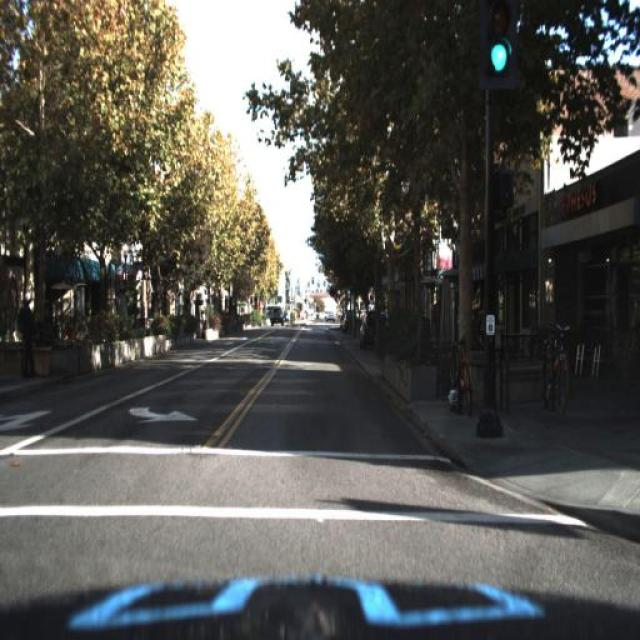car: (268, 300, 287, 330)
trafficLight: (474, 304, 492, 360)
